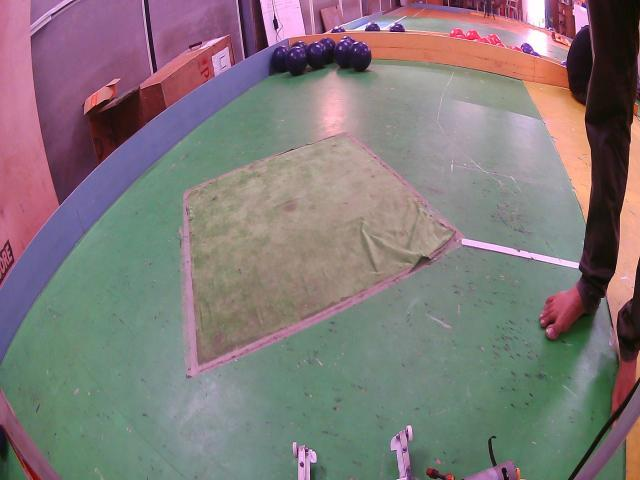jambhalya: (521, 42, 534, 53), (530, 50, 541, 57)
kaalyya: (285, 47, 308, 76), (349, 42, 371, 72), (306, 42, 328, 69), (271, 47, 288, 72), (334, 42, 350, 68), (320, 37, 335, 63), (389, 22, 405, 32), (291, 40, 308, 49), (365, 22, 380, 32), (342, 37, 356, 45), (331, 25, 345, 33)
